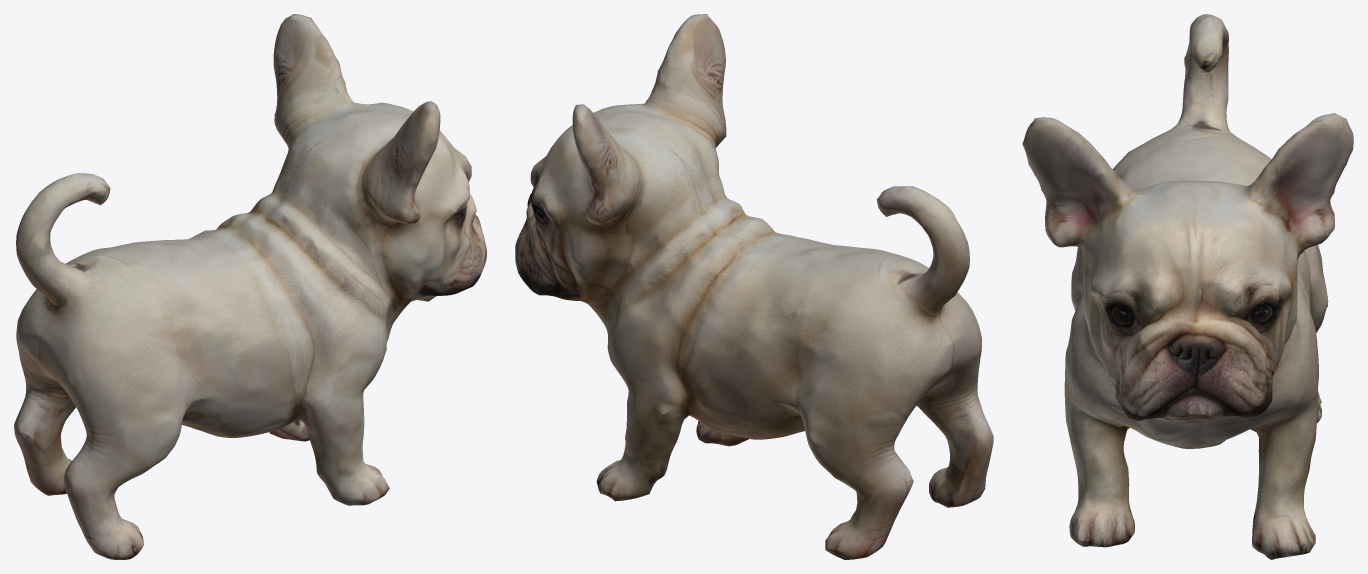
File: french_bulldog.glb
The picture shows the model from 3 angles, left to right: view 1: azimuth 30°, elevation 25°; view 2: azimuth 150°, elevation 25°; view 3: azimuth 270°, elevation 25°; orthographic projection. The views are drawn at different scales.
Bounding box in the file's own units: 1.2 × 1.02 × 0.6833.
1 material, 1 textured.
